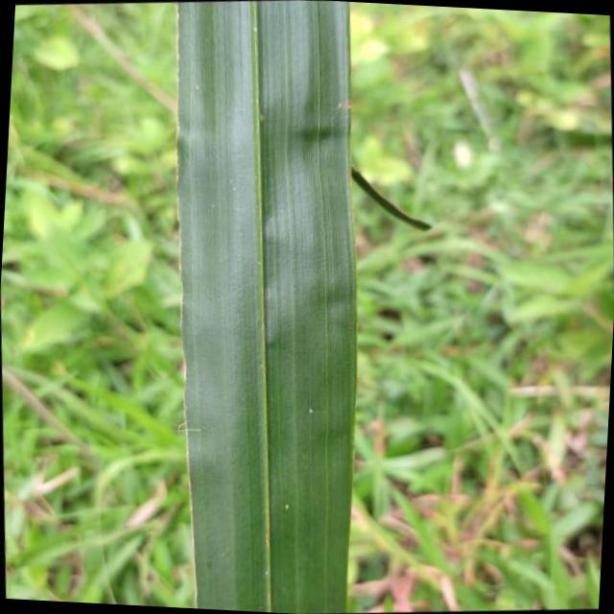Boron: (172, 0, 356, 614)
